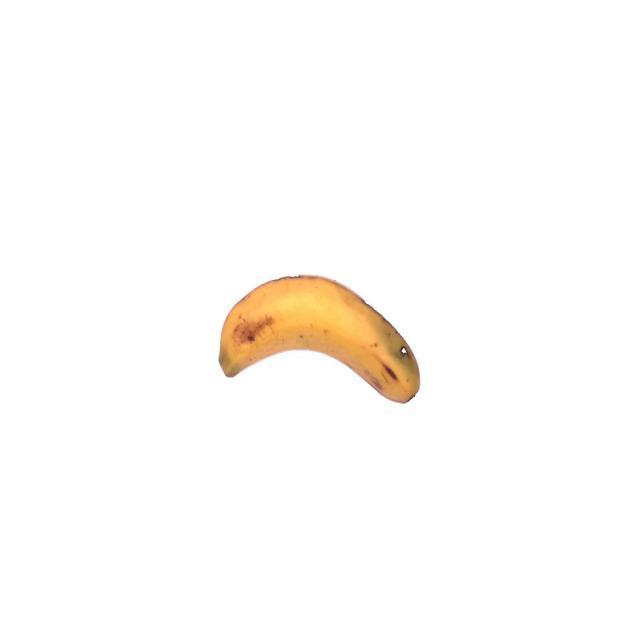Banana: (216, 271, 424, 412)
